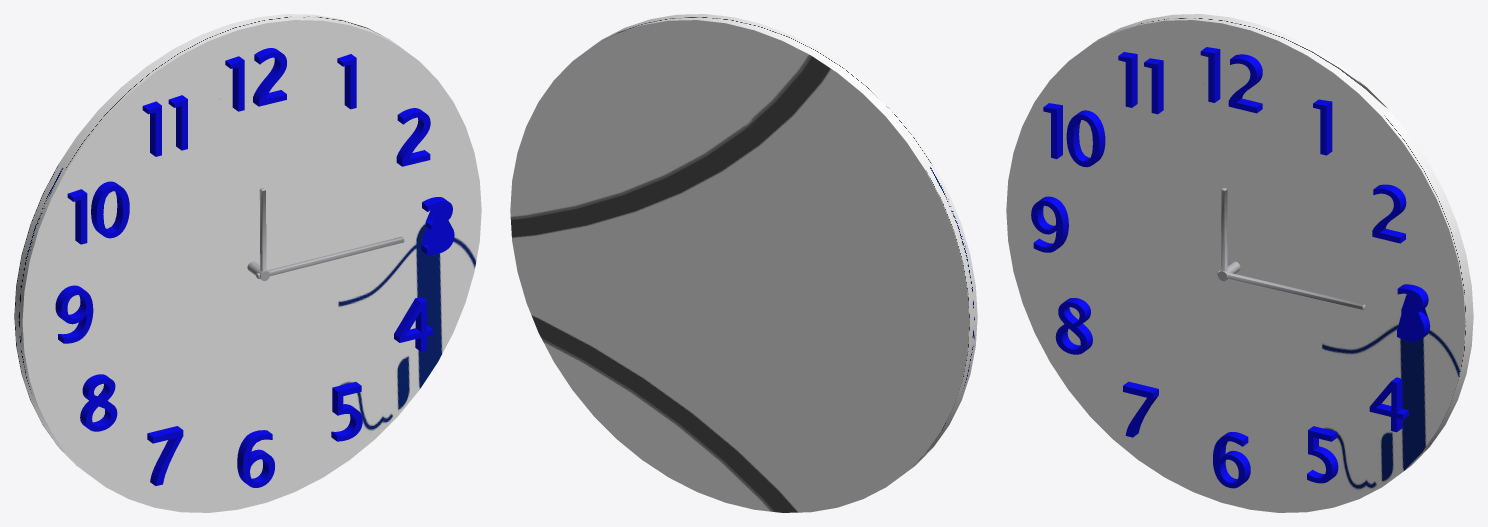
Rendered from clock.fbx.
The picture shows the model from 3 angles, left to right: view 1: azimuth 30°, elevation 25°; view 2: azimuth 150°, elevation 25°; view 3: azimuth 330°, elevation 25°; orthographic projection.
Visible parts, largest first — view 1: Back, N10, N12, N3, N8, N6, N9, N11, N2, N4, N5, N7 (+3 smaller); view 2: Back; view 3: Back, N10, N12, N3, N11, N8, N6, N9, N5, N4, N2, pCube5 (+3 smaller).
Part boxes in pixels (bbox=[...]): Back: bbox=[14, 14, 481, 512]; N10: bbox=[67, 181, 129, 244]; N12: bbox=[225, 48, 286, 111]; N3: bbox=[421, 197, 454, 254]; N8: bbox=[80, 374, 117, 431]; N6: bbox=[237, 430, 274, 487]; N9: bbox=[55, 285, 93, 343]; N11: bbox=[142, 95, 187, 156]; N2: bbox=[396, 108, 430, 166]; N4: bbox=[394, 297, 433, 351]; N5: bbox=[331, 382, 362, 441]; N7: bbox=[147, 426, 183, 485]; Back: bbox=[510, 14, 977, 512]; Back: bbox=[1006, 14, 1473, 512]; N10: bbox=[1043, 103, 1105, 167]; N12: bbox=[1200, 47, 1262, 113]; N3: bbox=[1397, 284, 1430, 341]; N11: bbox=[1118, 52, 1163, 114]; N8: bbox=[1055, 298, 1092, 354]; N6: bbox=[1213, 432, 1250, 488]; N9: bbox=[1031, 196, 1068, 252]; N5: bbox=[1307, 426, 1338, 483]; N4: bbox=[1369, 377, 1408, 432]; N2: bbox=[1372, 184, 1406, 243]; pCube5: bbox=[1217, 270, 1365, 310].
Bounding box in the file's own units: 98.2 × 98 × 7.96.
